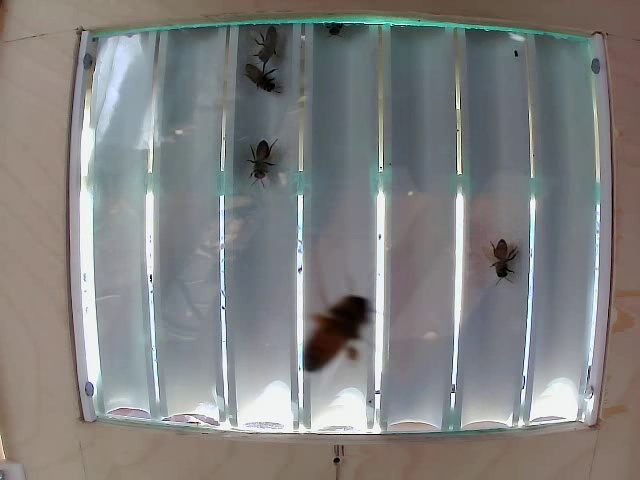bee: (244, 137, 290, 176), (241, 62, 282, 99), (256, 26, 297, 57), (485, 238, 511, 282)
